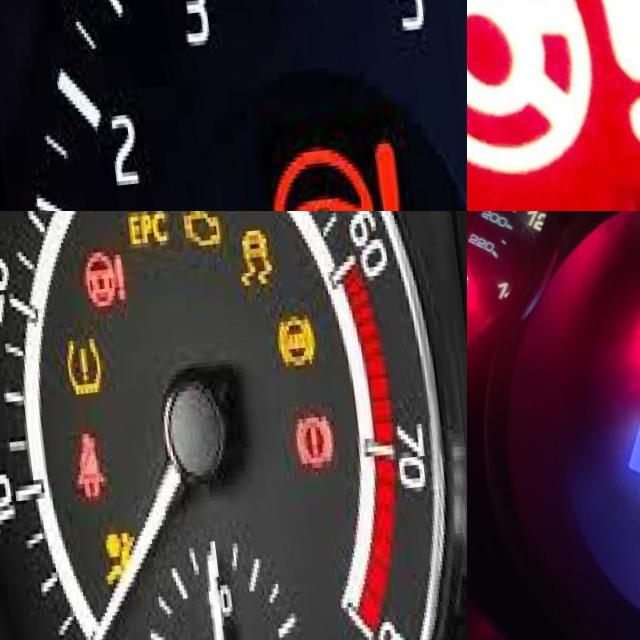Electronic Power Steering: (467, 0, 640, 195), (253, 147, 403, 211), (72, 250, 126, 319)
Seat Belt: (60, 435, 100, 503)
